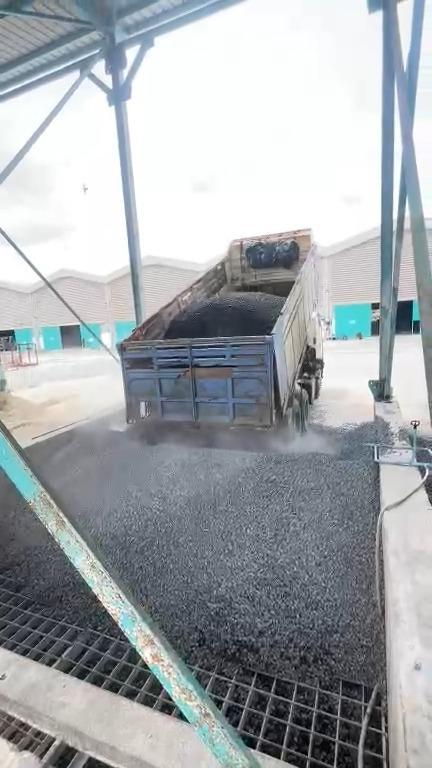gravel: (31, 423, 382, 684), (1, 476, 109, 628), (163, 292, 283, 339), (287, 399, 373, 455), (371, 415, 395, 506)
sand: (1, 393, 65, 444)
